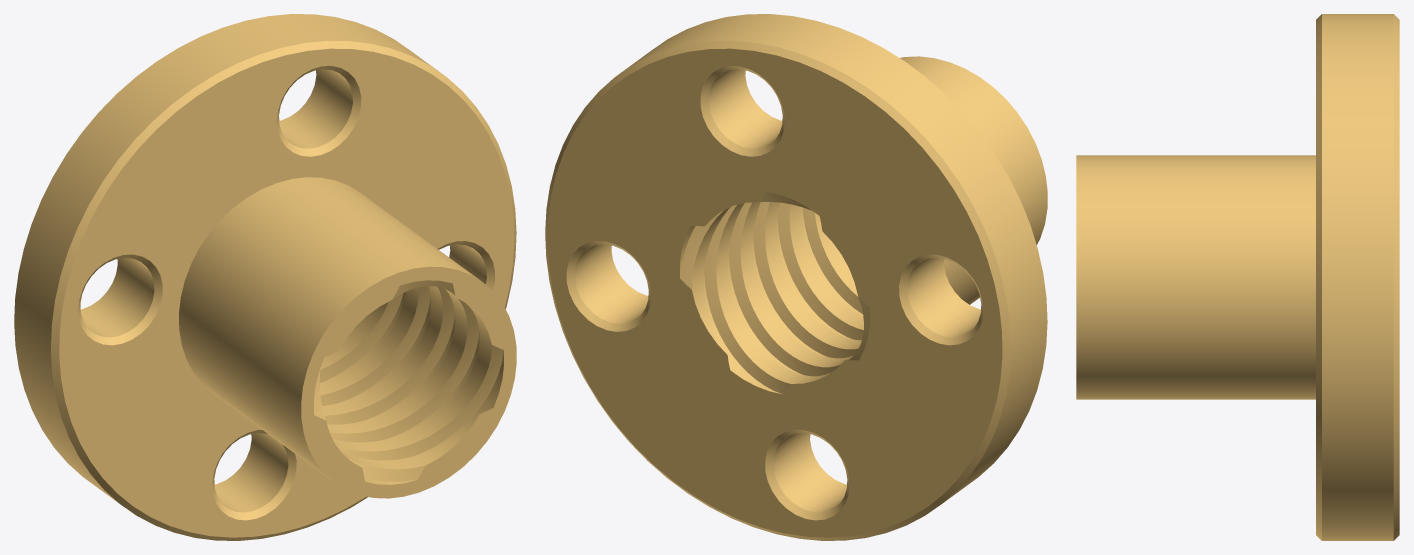
The model's file is nut_visual.obj.
3 views of the same model, side by side, from view 1: azimuth 30°, elevation 25°; view 2: azimuth 150°, elevation 25°; view 3: azimuth 270°, elevation 25° (orthographic).
Parts seen in each view (by area): view 1: nut; view 2: nut; view 3: nut.
Boxes of the visible parts, left/top/right/bottom form: nut: left=14, top=14, right=516, bottom=540; nut: left=545, top=14, right=1047, bottom=540; nut: left=1076, top=14, right=1399, bottom=540.
Size of the model in its own units: 2.2 by 2.2 by 1.35.
